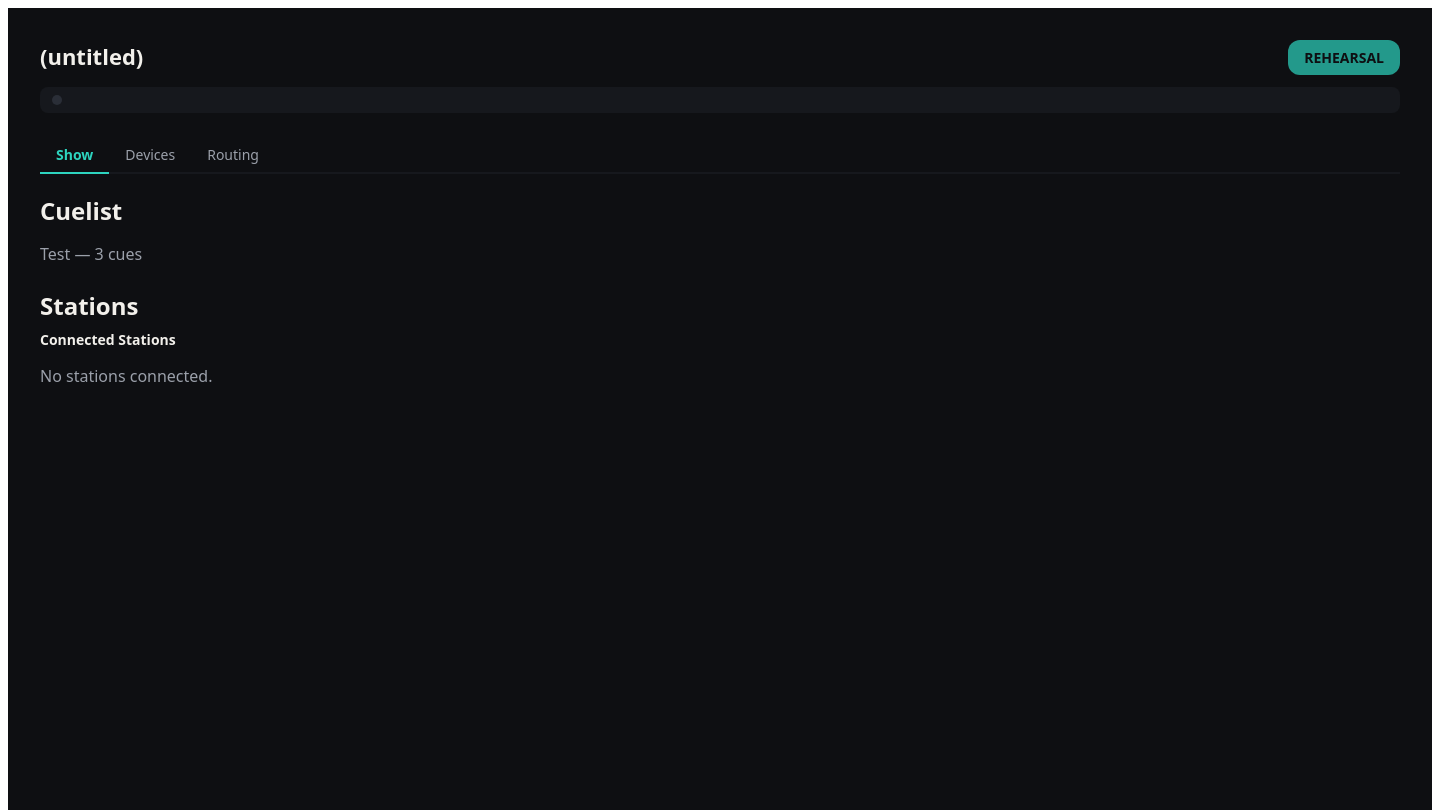
it: ClockSourceSettings mounted via CuelistCorePanel.clockPanel prop › renders clock-source-settings inside the Devices tab of CuelistCorePanel
# Navigate to Devices tab where ClockSourceSettings is mounted
Click the tab "Devices" at [150, 156], box [109,137,191,174]
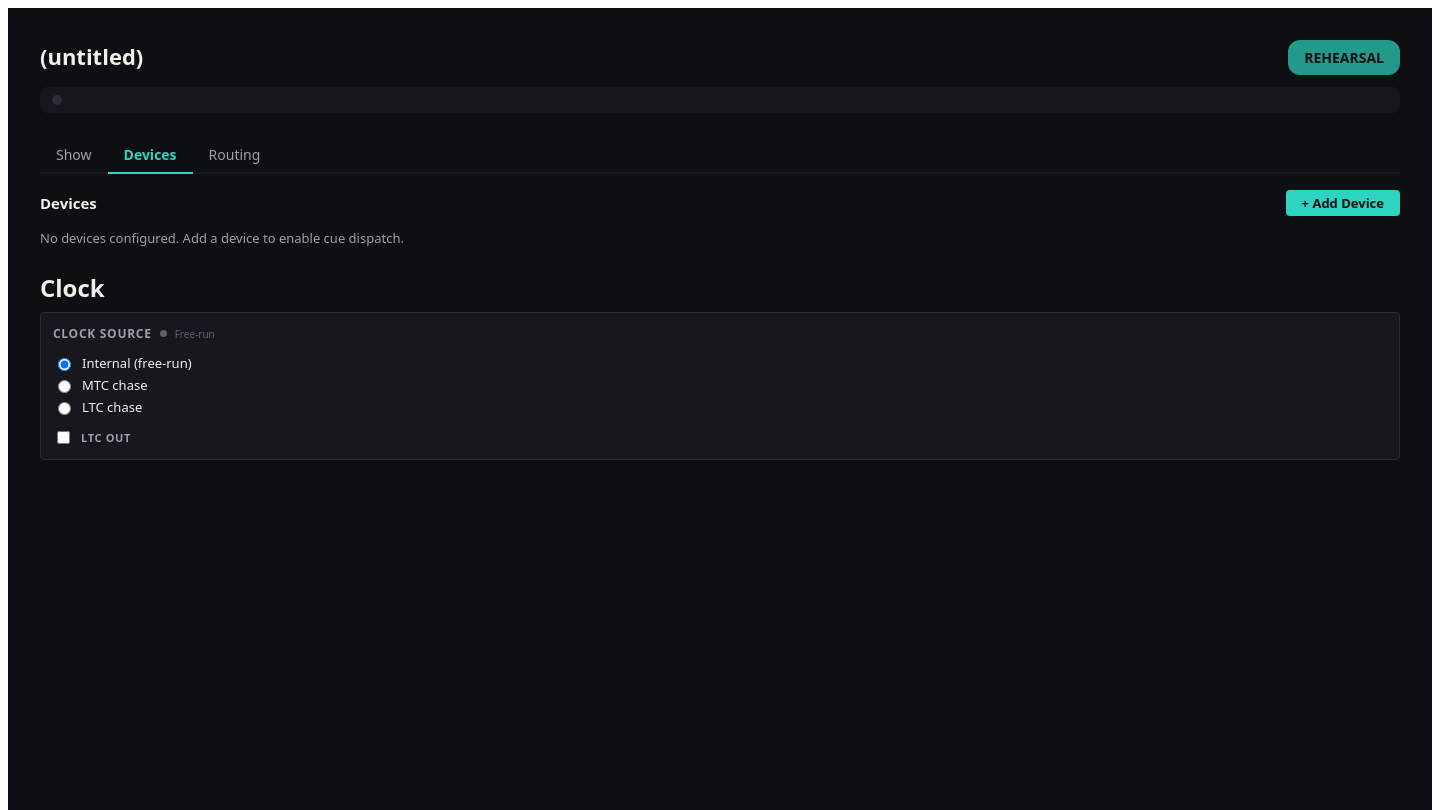
Now the element with test id "clock-source-settings" is shown, box [40,312,1400,460]
